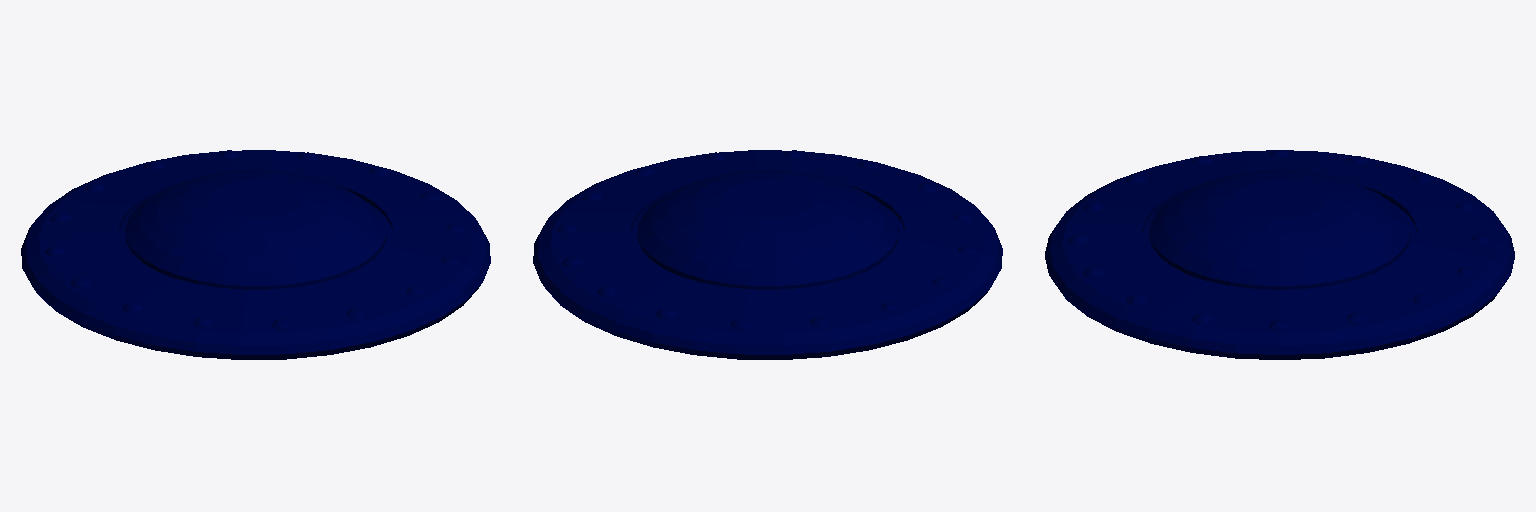
File: saucerTest2.obj
3 renders of one model, left to right at view 1: azimuth 30°, elevation 25°; view 2: azimuth 150°, elevation 25°; view 3: azimuth 270°, elevation 25°, orthographic.
Visible parts, largest first — view 1: saucer:Mesh; view 2: saucer:Mesh; view 3: saucer:Mesh.
Part boxes in pixels (left/top/right/bottom): saucer:Mesh: left=21, top=150, right=490, bottom=359; saucer:Mesh: left=533, top=150, right=1002, bottom=359; saucer:Mesh: left=1045, top=150, right=1514, bottom=359.
Size of the model in its own units: 4 by 1.08 by 4.